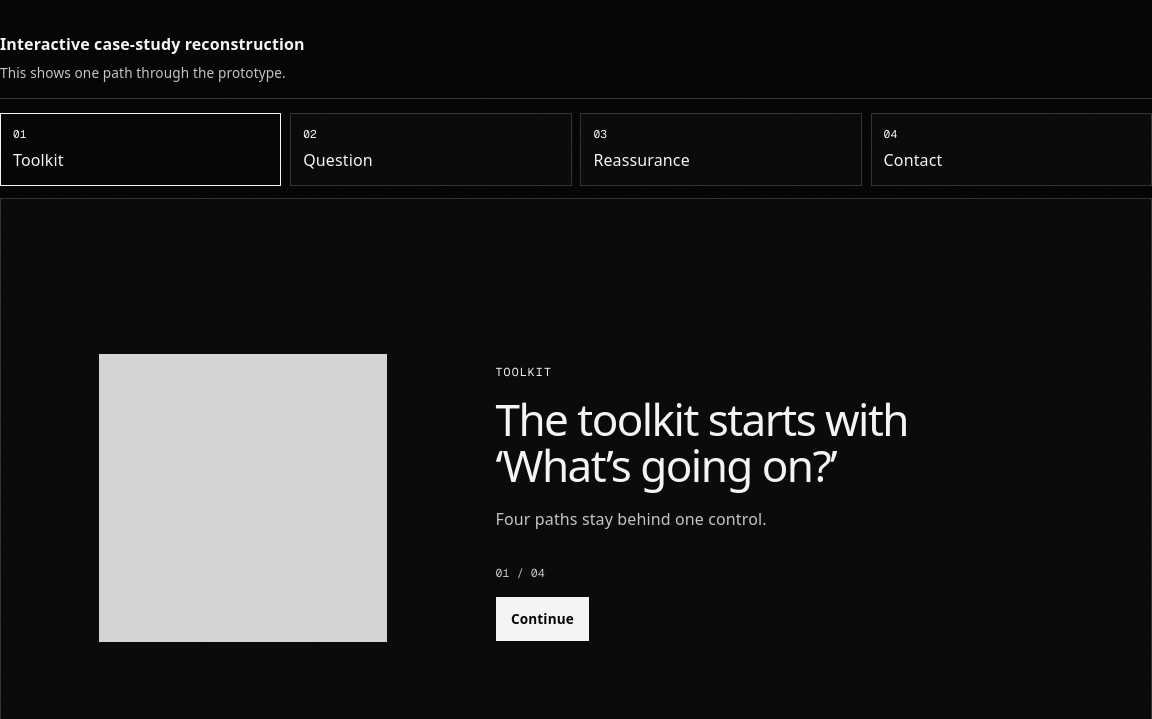
Test: Fresh Greens pulled-over journey › moves from the toolkit to the trusted-contact state
Expected: the text "The toolkit starts with ‘What’s going on?’" is shown, [496, 396, 948, 488]
Click the tab "04 Contact": (913,160) [871, 113, 1151, 186]
(page scrolled)
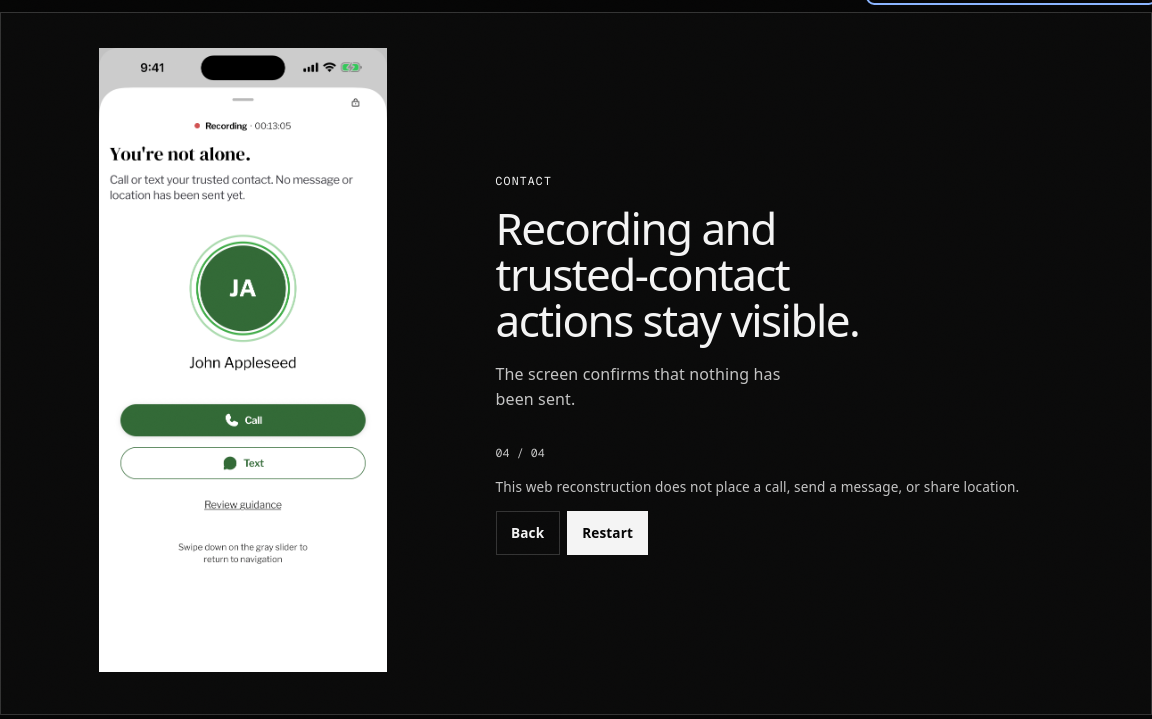
Expected: the text "Recording and trusted-contact actions stay visible." is shown, [496, 198, 859, 350]
Expected: the text "The screen confirms that nothing has been sent." is shown, [496, 362, 807, 412]
Expected: the picture named "The pulled-over contact screen showing a live recording time" is shown, [98, 48, 386, 672]
